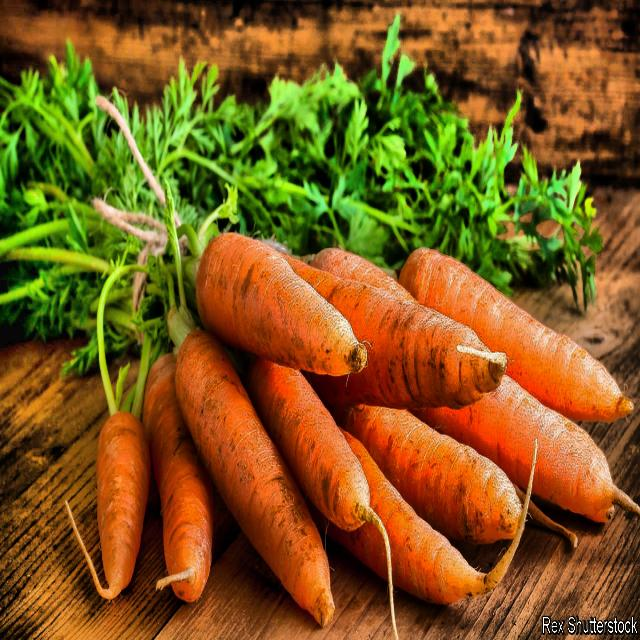carrot: (14, 27, 618, 622)
